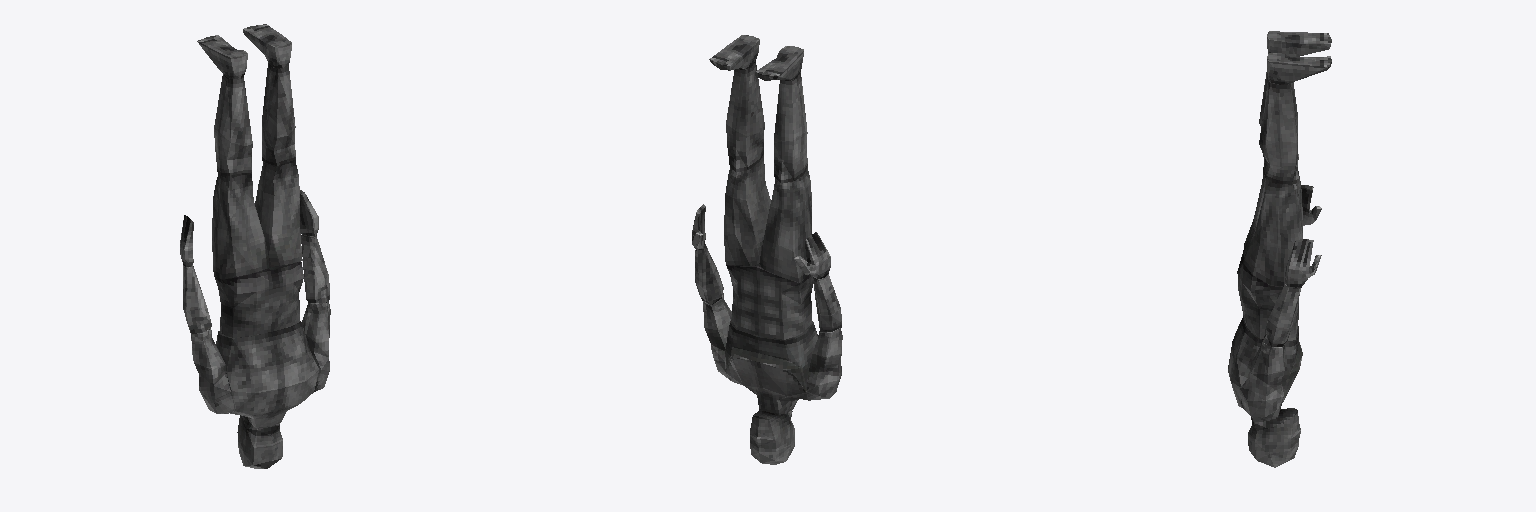
3 renders of one model, left to right at view 1: azimuth 30°, elevation 25°; view 2: azimuth 150°, elevation 25°; view 3: azimuth 270°, elevation 25°, orthographic.
Visible parts, largest first — view 1: Cerberus_0; view 2: Cerberus_0; view 3: Cerberus_0.
Part boxes in pixels (left/top/right/bottom): Cerberus_0: left=180, top=24, right=330, bottom=468; Cerberus_0: left=692, top=35, right=842, bottom=464; Cerberus_0: left=1228, top=31, right=1331, bottom=467.
Bounding box in the file's own units: 0.3454 × 0.97 × 0.2189.
1 materials, 1 textured.